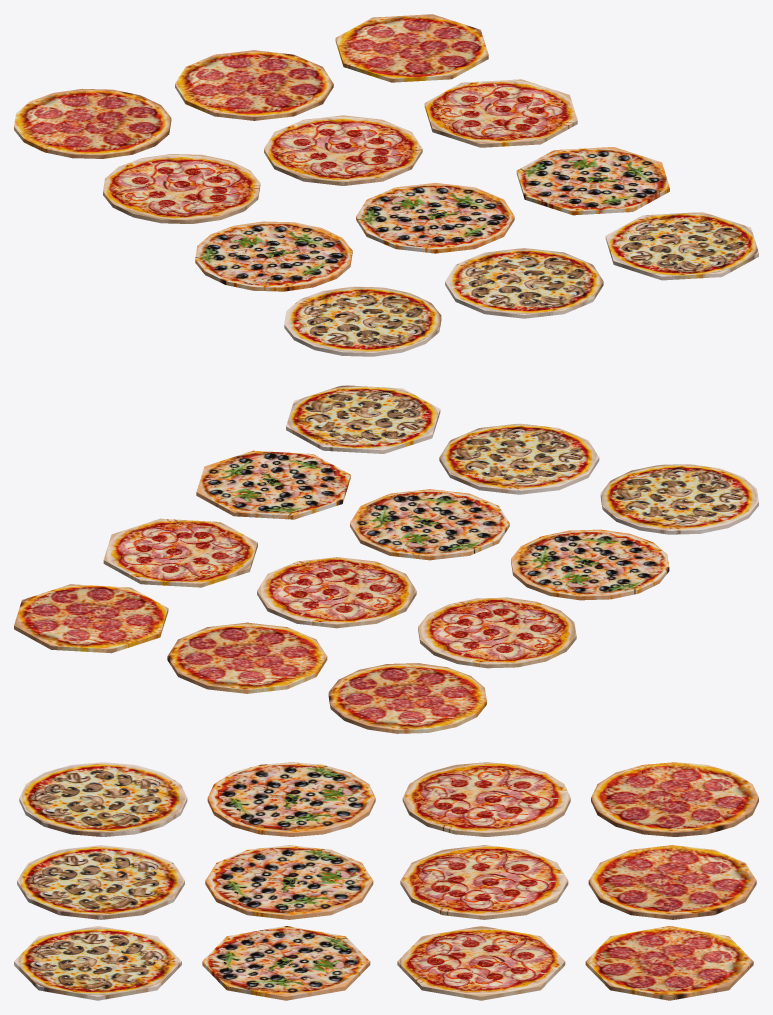
File: tasty_lowpoly_pizza.glb
3 views of the same model, one above another, from view 1: azimuth 30°, elevation 25°; view 2: azimuth 150°, elevation 25°; view 3: azimuth 270°, elevation 25° (orthographic). The views are drawn at different scales.
Parts seen in each view (by area): view 1: pizza_pizza2MAT_01_pizza2_0, pizza_pizza3MAT_01_pizza3_0, pizza_pizza4MAT_01_pizza4_0, pizza_pizza1MAT_01_pizza1_0, pizza_pizza1MAT_02_pizza1_0, pizza_pizza2MAT_02_pizza2_0, pizza_pizza4MAT_02_pizza4_0, pizza_pizza3MAT_02_pizza3_0, pizza_pizza1MAT_03_pizza1_0, pizza_pizza2MAT_03_pizza2_0, pizza_pizza4MAT_03_pizza4_0, pizza_pizza3MAT_03_pizza3_0; view 2: pizza_pizza1MAT_01_pizza1_0, pizza_pizza4MAT_01_pizza4_0, pizza_pizza2MAT_01_pizza2_0, pizza_pizza3MAT_01_pizza3_0, pizza_pizza4MAT_02_pizza4_0, pizza_pizza1MAT_02_pizza1_0, pizza_pizza3MAT_02_pizza3_0, pizza_pizza2MAT_02_pizza2_0, pizza_pizza2MAT_03_pizza2_0, pizza_pizza3MAT_03_pizza3_0, pizza_pizza4MAT_03_pizza4_0, pizza_pizza1MAT_03_pizza1_0; view 3: pizza_pizza3MAT_01_pizza3_0, pizza_pizza4MAT_01_pizza4_0, pizza_pizza2MAT_01_pizza2_0, pizza_pizza1MAT_01_pizza1_0, pizza_pizza2MAT_02_pizza2_0, pizza_pizza1MAT_02_pizza1_0, pizza_pizza4MAT_02_pizza4_0, pizza_pizza3MAT_02_pizza3_0, pizza_pizza2MAT_03_pizza2_0, pizza_pizza1MAT_03_pizza1_0, pizza_pizza3MAT_03_pizza3_0, pizza_pizza4MAT_03_pizza4_0.
Part boxes in pixels (x1,y1,x2,y2): pizza_pizza2MAT_01_pizza2_0: (103, 154, 260, 223); pizza_pizza3MAT_01_pizza3_0: (195, 221, 352, 291); pizza_pizza4MAT_01_pizza4_0: (284, 286, 441, 356); pizza_pizza1MAT_01_pizza1_0: (14, 88, 171, 158); pizza_pizza1MAT_02_pizza1_0: (175, 50, 333, 120); pizza_pizza2MAT_02_pizza2_0: (264, 115, 422, 185); pizza_pizza4MAT_02_pizza4_0: (445, 248, 603, 318); pizza_pizza3MAT_02_pizza3_0: (356, 183, 514, 253); pizza_pizza1MAT_03_pizza1_0: (335, 14, 488, 82); pizza_pizza2MAT_03_pizza2_0: (424, 79, 577, 147); pizza_pizza4MAT_03_pizza4_0: (605, 212, 758, 280); pizza_pizza3MAT_03_pizza3_0: (516, 147, 669, 215); pizza_pizza1MAT_01_pizza1_0: (328, 663, 486, 733); pizza_pizza4MAT_01_pizza4_0: (600, 464, 758, 534); pizza_pizza2MAT_01_pizza2_0: (418, 597, 576, 668); pizza_pizza3MAT_01_pizza3_0: (511, 529, 669, 600); pizza_pizza4MAT_02_pizza4_0: (439, 423, 599, 494); pizza_pizza1MAT_02_pizza1_0: (167, 622, 327, 693); pizza_pizza3MAT_02_pizza3_0: (350, 489, 509, 560); pizza_pizza2MAT_02_pizza2_0: (257, 557, 416, 628); pizza_pizza2MAT_03_pizza2_0: (103, 518, 257, 587); pizza_pizza3MAT_03_pizza3_0: (196, 450, 350, 519); pizza_pizza4MAT_03_pizza4_0: (286, 385, 440, 453); pizza_pizza1MAT_03_pizza1_0: (14, 584, 168, 653); pizza_pizza3MAT_01_pizza3_0: (207, 762, 375, 836); pizza_pizza4MAT_01_pizza4_0: (19, 762, 187, 836); pizza_pizza2MAT_01_pizza2_0: (402, 762, 570, 836); pizza_pizza1MAT_01_pizza1_0: (591, 762, 758, 836); pizza_pizza2MAT_02_pizza2_0: (400, 845, 568, 919); pizza_pizza1MAT_02_pizza1_0: (588, 845, 756, 919); pizza_pizza4MAT_02_pizza4_0: (17, 845, 184, 919); pizza_pizza3MAT_02_pizza3_0: (205, 845, 373, 919); pizza_pizza2MAT_03_pizza2_0: (397, 926, 565, 1000); pizza_pizza1MAT_03_pizza1_0: (585, 926, 753, 1000); pizza_pizza3MAT_03_pizza3_0: (202, 926, 370, 1000); pizza_pizza4MAT_03_pizza4_0: (14, 926, 181, 1000).
Size of the model in its own units: 6.61 by 0.0519 by 8.87.
4 materials, 4 textured.
